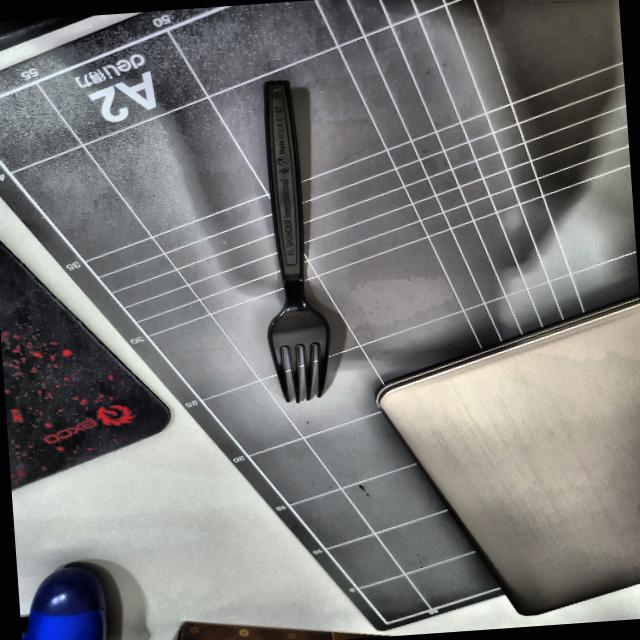plastic utensil: (235, 72, 338, 404)
